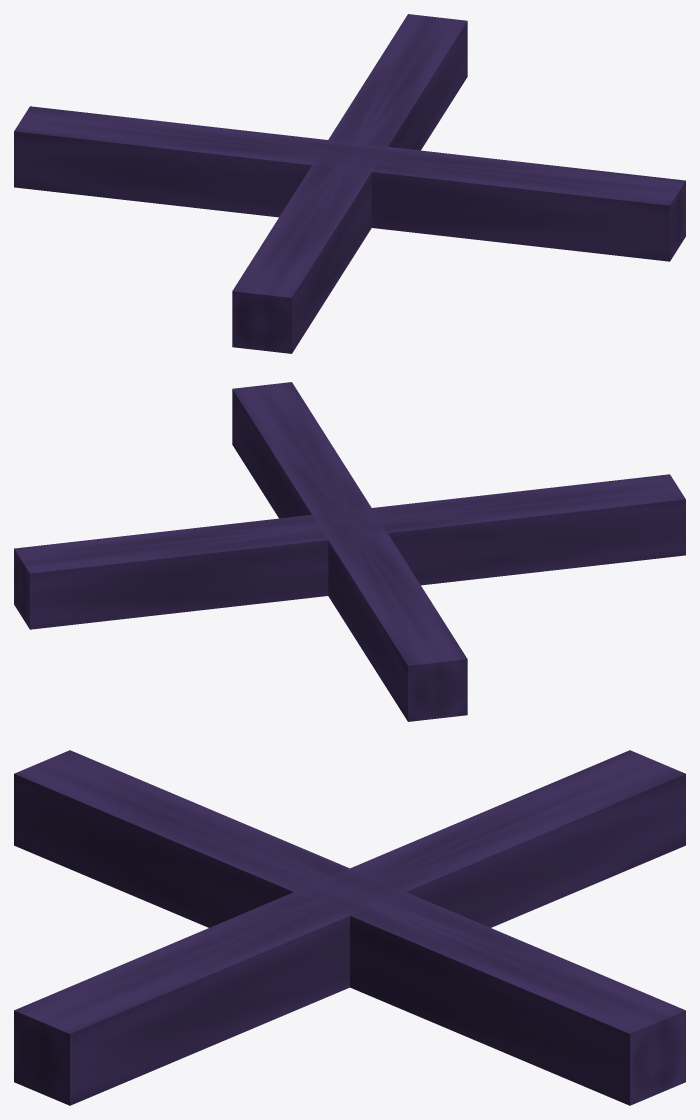
File: companion-downed-fade.glb
The picture shows the model from 3 angles, top to bottom: view 1: azimuth 30°, elevation 25°; view 2: azimuth 150°, elevation 25°; view 3: azimuth 270°, elevation 25°; orthographic projection. The views are drawn at different scales.
Visible parts, largest first — view 1: downed-cross-1, downed-cross-0; view 2: downed-cross-0, downed-cross-1; view 3: downed-cross-0, downed-cross-1.
Part boxes in pixels (<box>): downed-cross-1: <box>14,106,685,261</box>; downed-cross-0: <box>232,14,467,353</box>; downed-cross-0: <box>14,474,685,629</box>; downed-cross-1: <box>232,382,467,721</box>; downed-cross-0: <box>14,750,685,1105</box>; downed-cross-1: <box>14,750,685,1105</box>.
Size of the model in its own units: 0.1697 by 0.02 by 0.1697.
2 materials, 2 textured.
